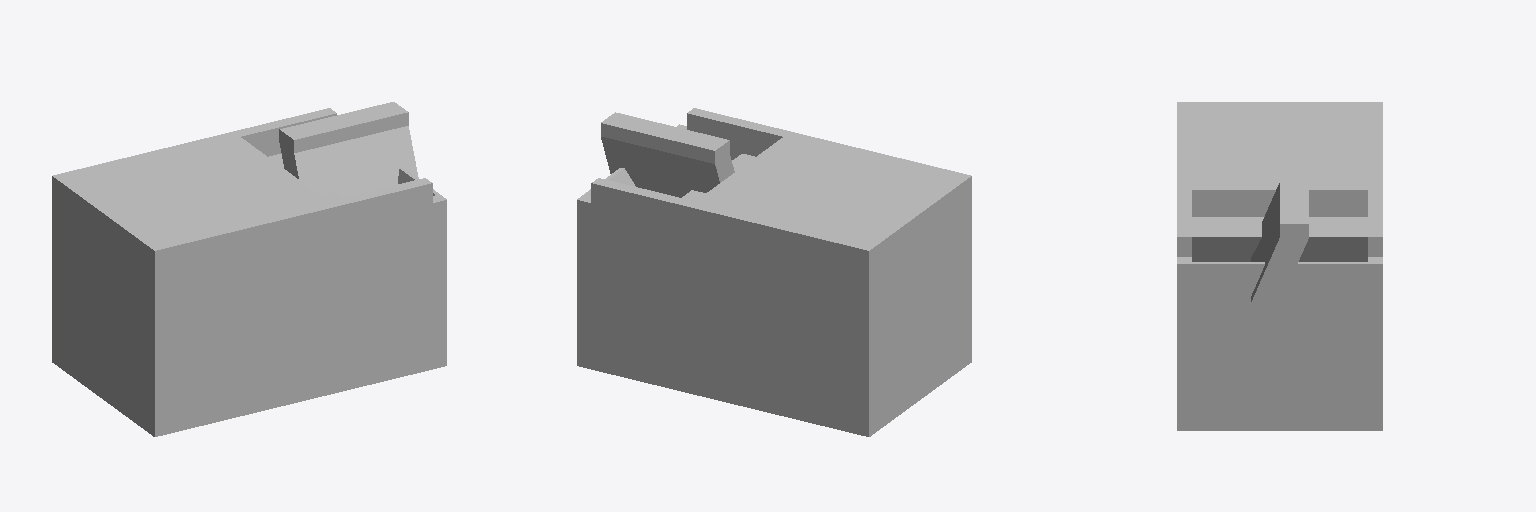
Rendered from TestMat.obj.
3 renders of one model, left to right at view 1: azimuth 30°, elevation 25°; view 2: azimuth 150°, elevation 25°; view 3: azimuth 270°, elevation 25°, orthographic.
Parts seen in each view (by area): view 1: Map_Map_MESH.001, Cube_Cube.000; view 2: Map_Map_MESH.001, Cube_Cube.000; view 3: Map_Map_MESH.001, Cube_Cube.000.
Boxes of the visible parts, x1=… form: Map_Map_MESH.001: x1=52, y1=108, x2=446, y2=436; Cube_Cube.000: x1=279, y1=102, x2=418, y2=197; Map_Map_MESH.001: x1=577, y1=108, x2=971, y2=436; Cube_Cube.000: x1=601, y1=112, x2=734, y2=197; Map_Map_MESH.001: x1=1177, y1=102, x2=1382, y2=430; Cube_Cube.000: x1=1251, y1=168, x2=1308, y2=303.
Size of the model in its own units: 24 by 16 by 14.